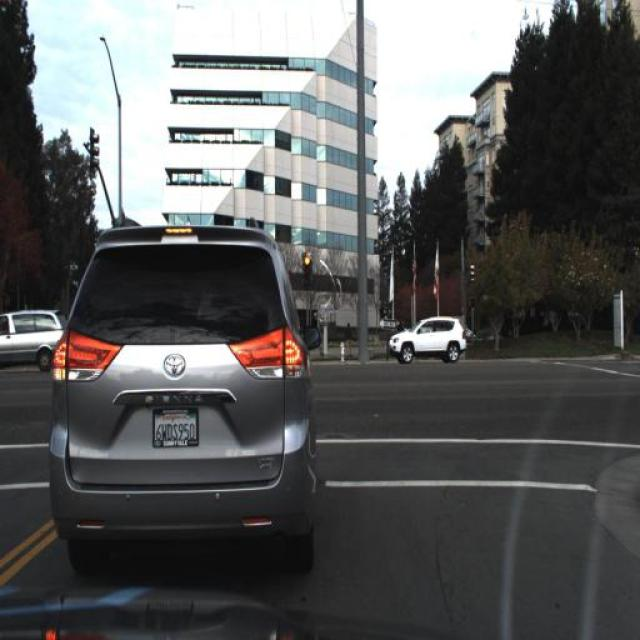car: (46, 213, 322, 574), (0, 308, 72, 373), (383, 314, 468, 362)
trafficLight: (342, 320, 352, 359)
trafficLight-RedLeft: (300, 248, 312, 291)
